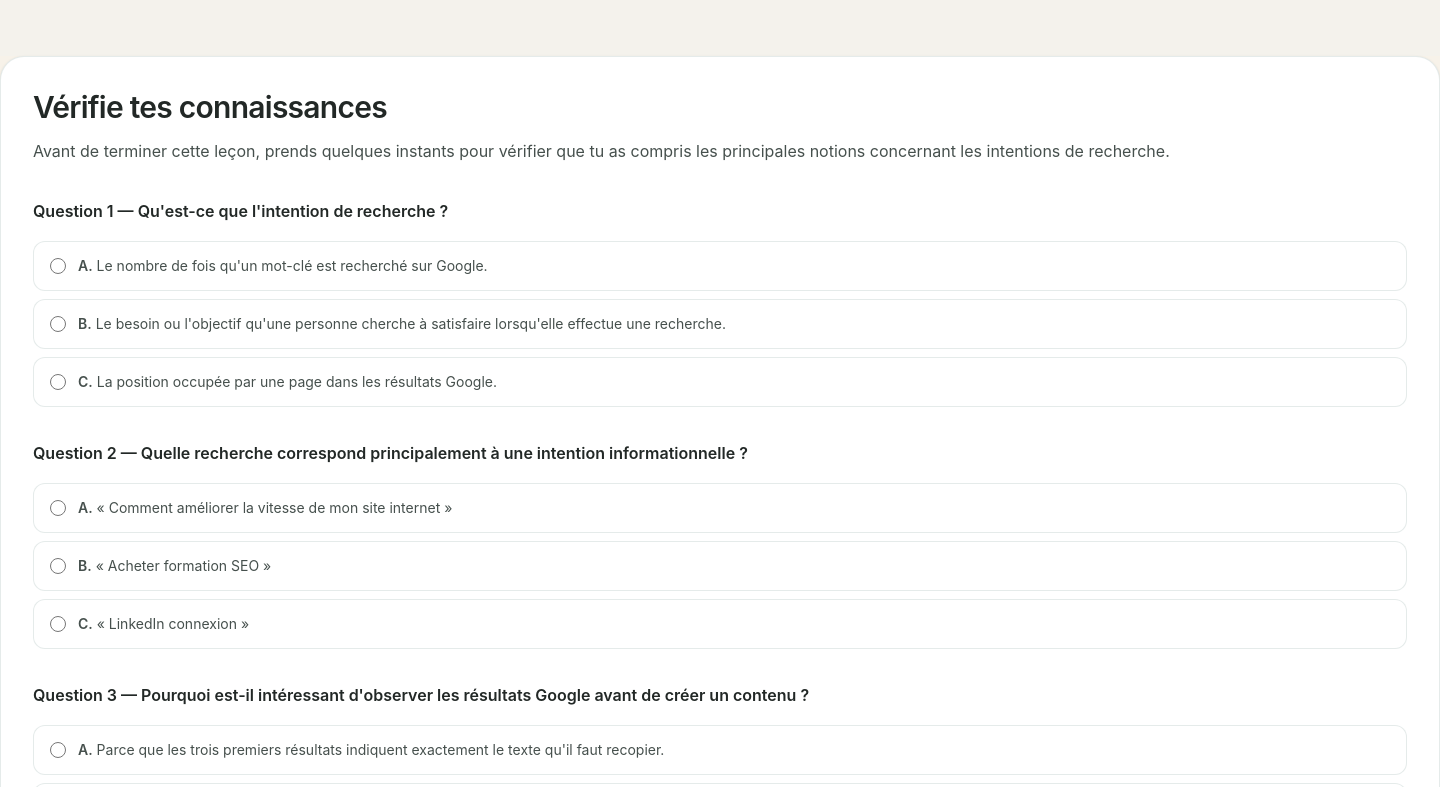
Test case: questionnaire de la septième leçon SEO › corrige les quatre questions après validation
Expected: the text "Question 4 : B." is not shown
Click the radio button named "quiz-question-1": (58, 324) [50,316,66,332]
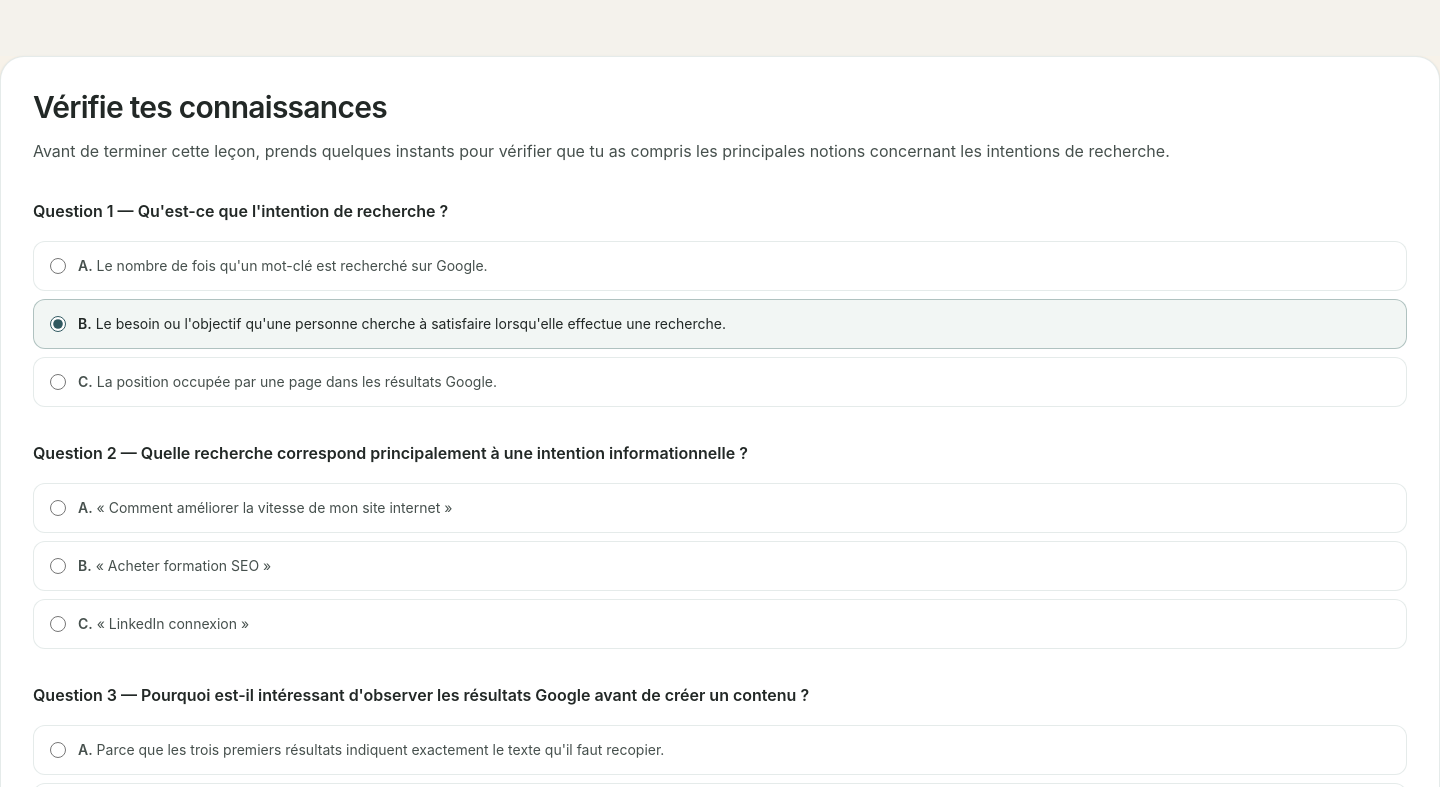
Click the radio button named "quiz-question-2": (58, 508) [50,500,66,516]
(page scrolled)
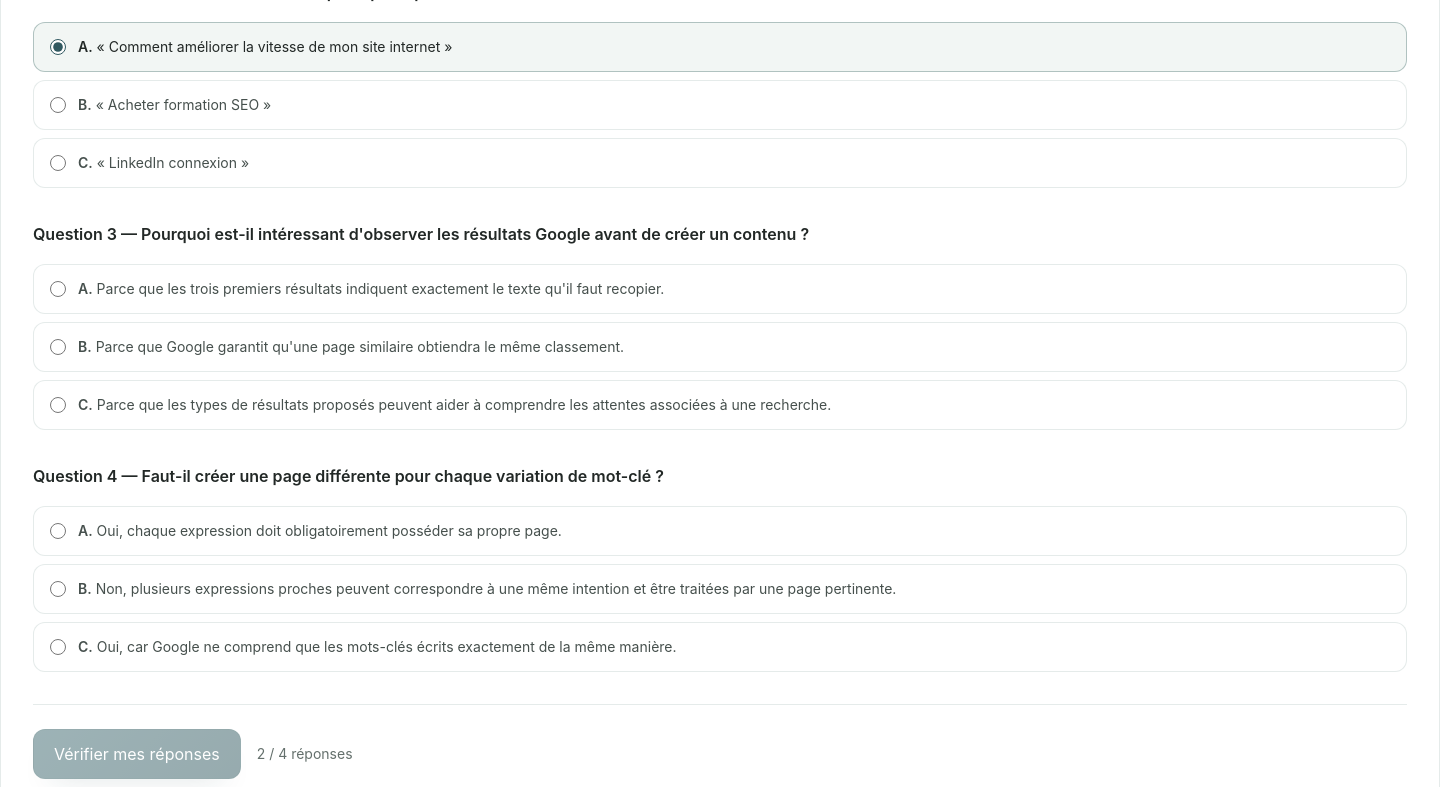
Click the radio button named "quiz-question-3": (58, 405) [50,397,66,413]
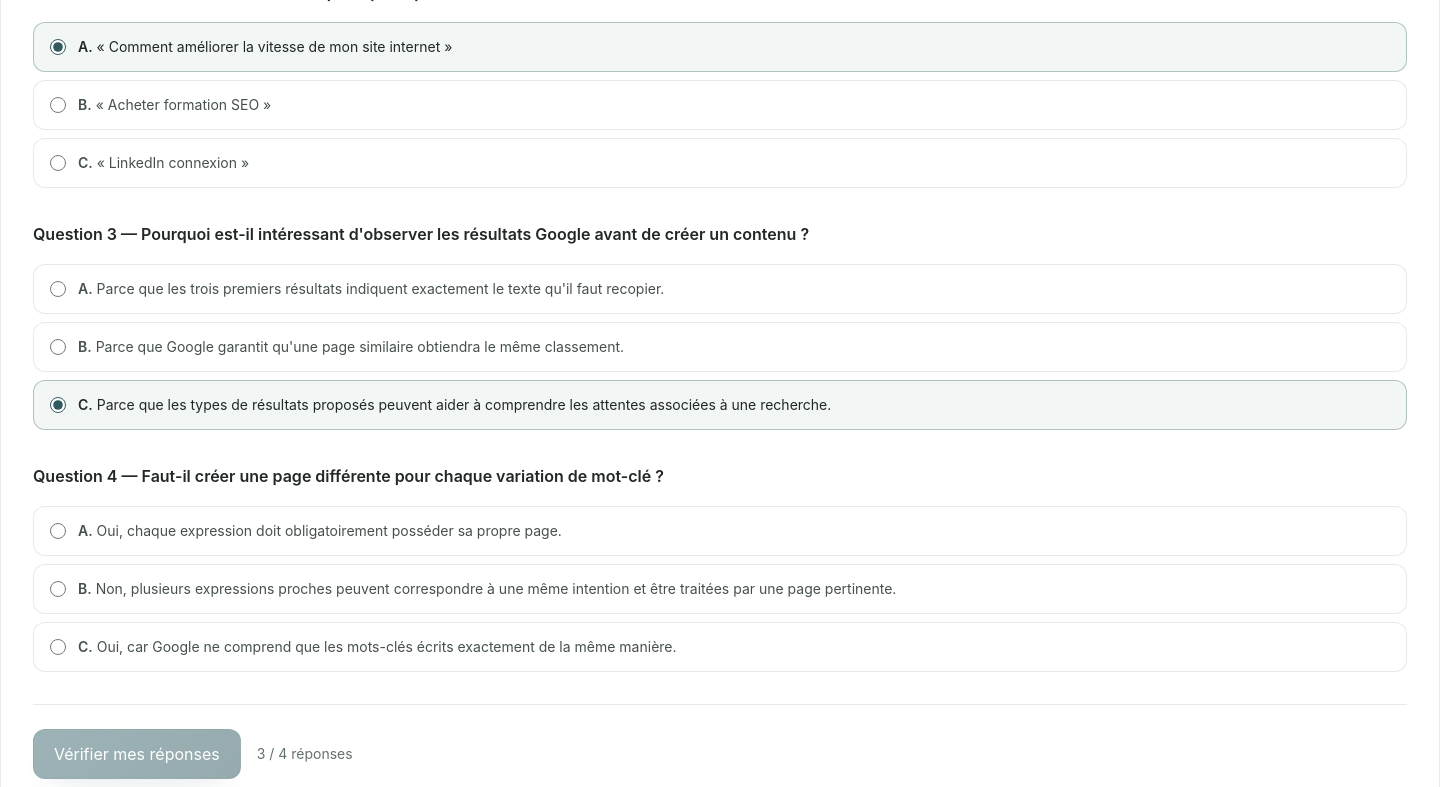
Click the radio button named "quiz-question-4": (58, 589) [50,581,66,597]
(page scrolled)
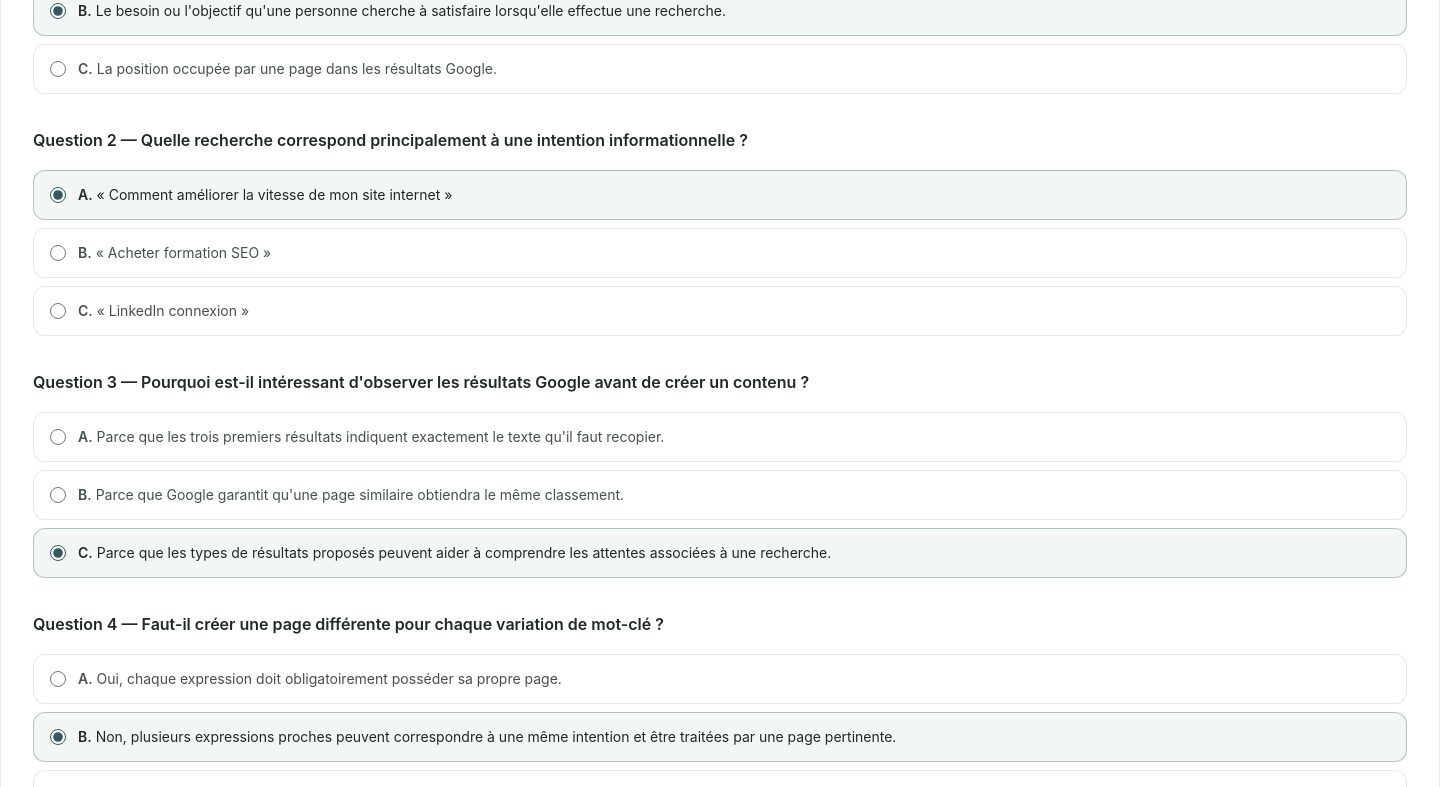
Submit the form
(page scrolled)
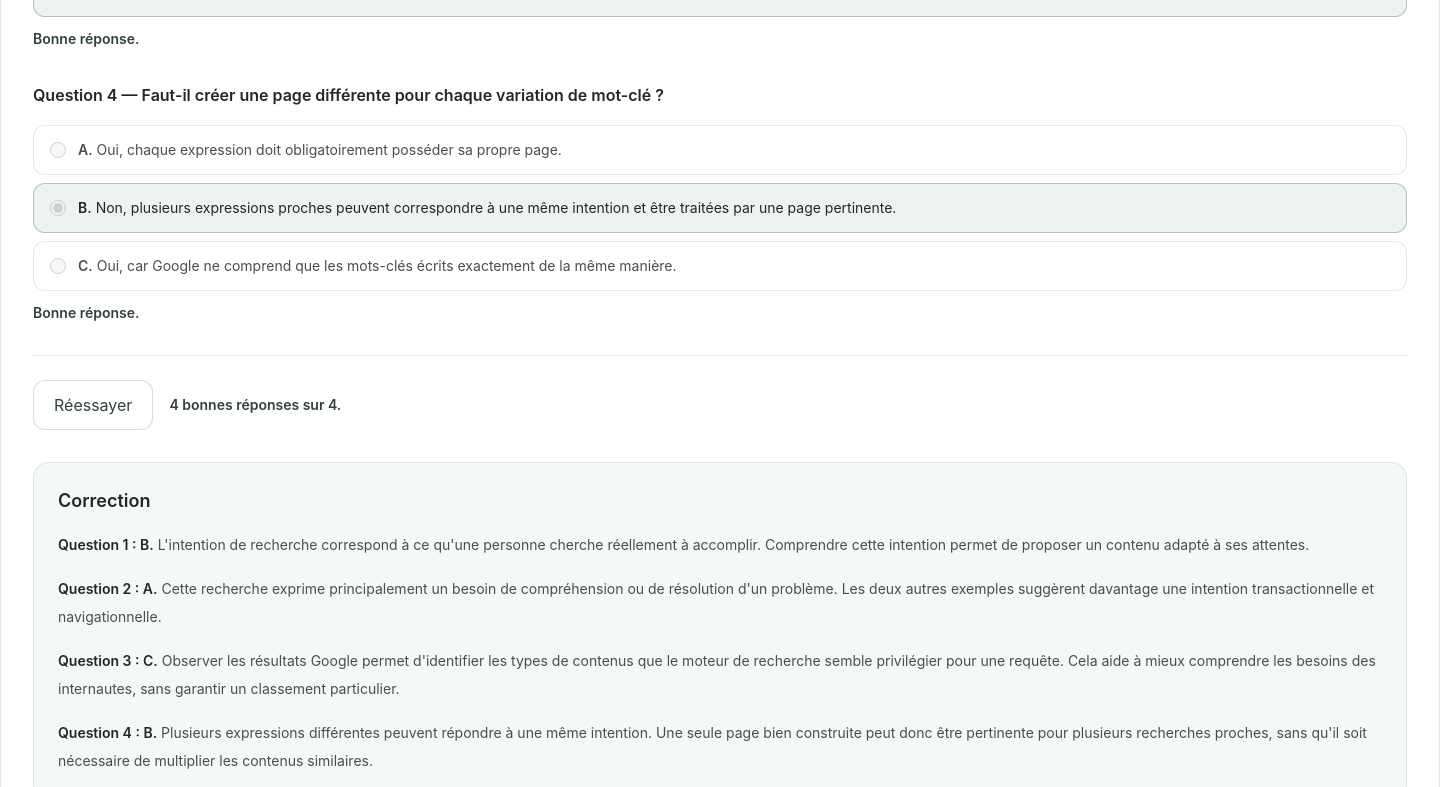
Expected: the message "4 bonnes réponses sur 4." is shown, [169,395,341,415]
Expected: the text "Question 4 : B." is shown, [58,724,157,741]
Expected: the text "Une seule page bien construite" is shown, [58,724,1367,769]
